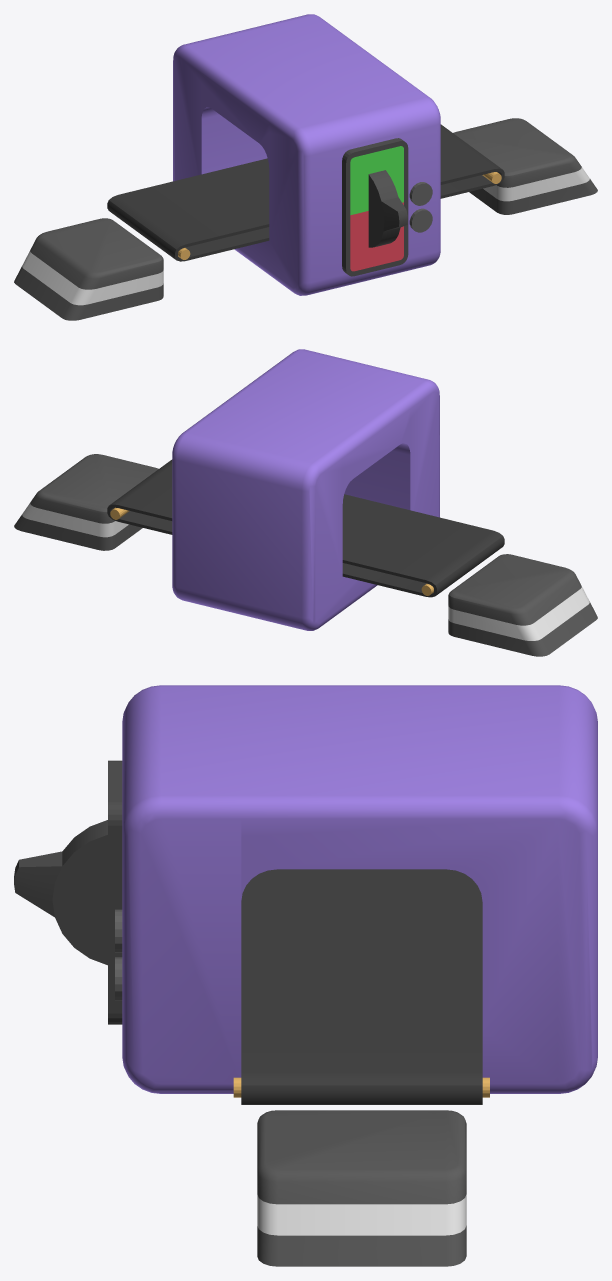
File: makina8.fbx
The picture shows the model from 3 angles, top to bottom: view 1: azimuth 30°, elevation 25°; view 2: azimuth 150°, elevation 25°; view 3: azimuth 270°, elevation 25°; orthographic projection. The views are drawn at different scales.
Visible parts, largest first — view 1: govde.008, stack.001, palet.007, dugme; view 2: govde.008, stack.001, palet.007; view 3: govde.008, palet.007, stack.001, dugme.
Part boxes in pixels (left/top/right/bottom): govde.008: left=173, top=14, right=440, bottom=295; stack.001: left=14, top=118, right=597, bottom=320; palet.007: left=107, top=124, right=504, bottom=261; dugme: left=368, top=170, right=407, bottom=247; govde.008: left=172, top=349, right=439, bottom=630; stack.001: left=14, top=454, right=597, bottom=656; palet.007: left=107, top=459, right=504, bottom=597; govde.008: left=108, top=685, right=597, bottom=1093; palet.007: left=233, top=869, right=489, bottom=1104; stack.001: left=257, top=1110, right=466, bottom=1266; dugme: left=14, top=820, right=107, bottom=965.
Size of the model in its own units: 611 by 182 by 324.
